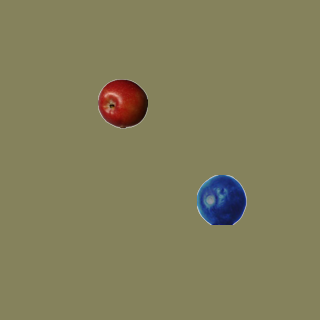Apple Braeburn: (97, 78, 147, 128)
Huckleberry: (196, 174, 246, 224)
